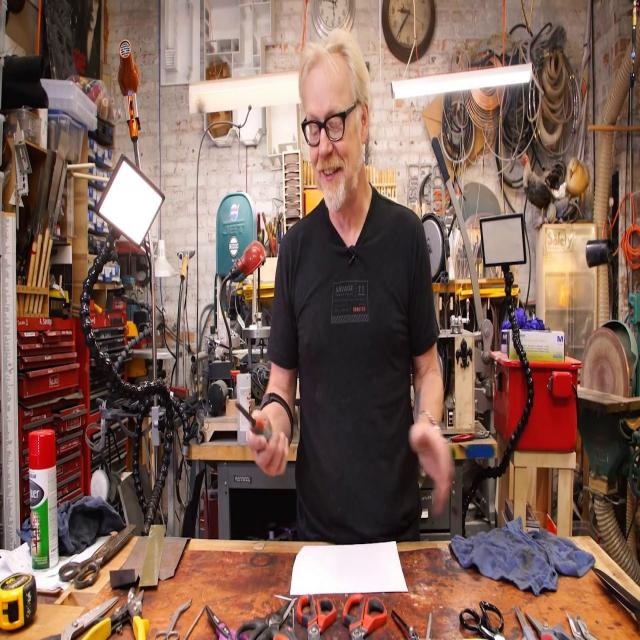scissor: (59, 523, 135, 589), (237, 595, 293, 640), (342, 594, 387, 640), (296, 594, 336, 640), (460, 601, 505, 640), (154, 597, 192, 640), (206, 606, 246, 640), (526, 613, 576, 640), (514, 604, 536, 640)
